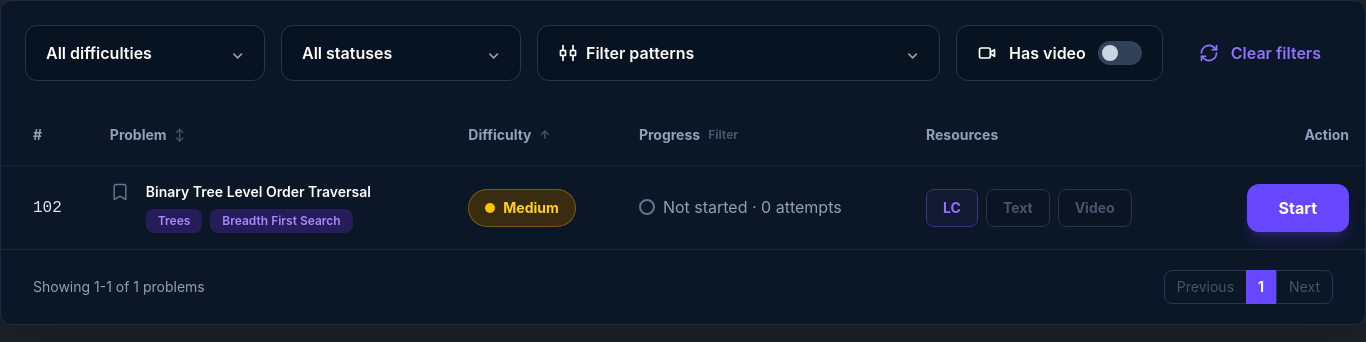
Scenario: LeetcodeProblemTable › shows the external pattern as selected without letting the local menu toggle it
Click the button "Filter patterns ⌄". click: coordinates (640, 53)
box: [537,25,940,81]
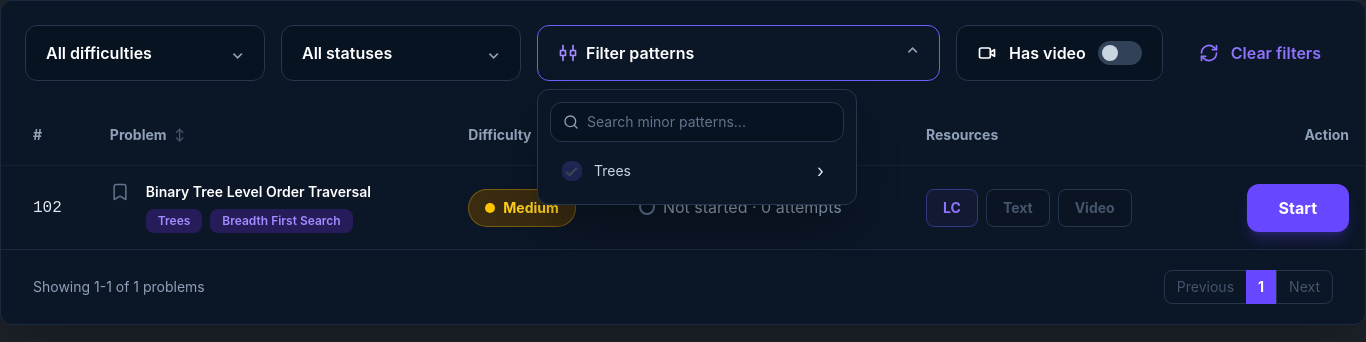
Check: the checkbox labelled "Trees" is checked, box [562,161,582,181]
Check: the checkbox labelled "Trees" is disabled, box [562,161,582,181]
